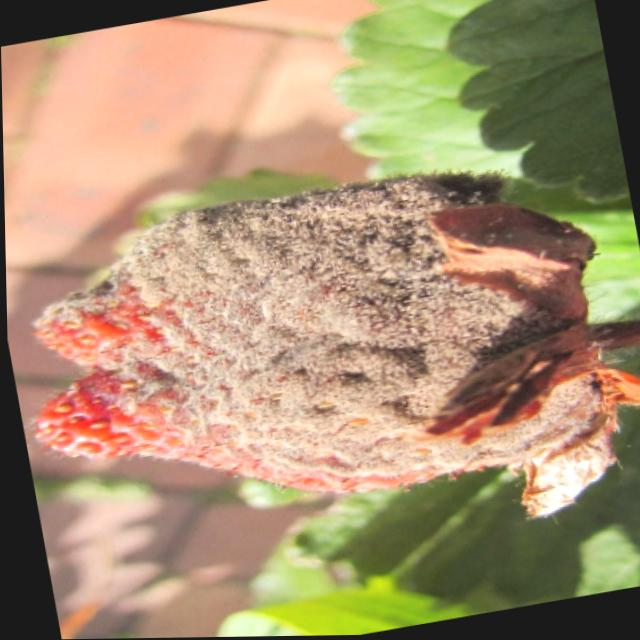Gray Mold: (27, 171, 618, 525)
